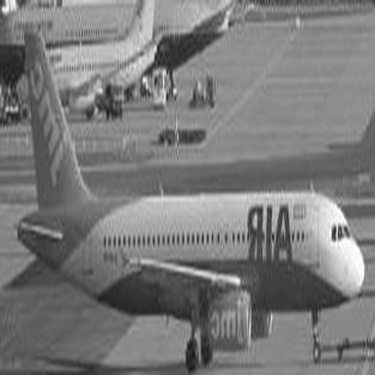airplane: (15, 12, 369, 369)
